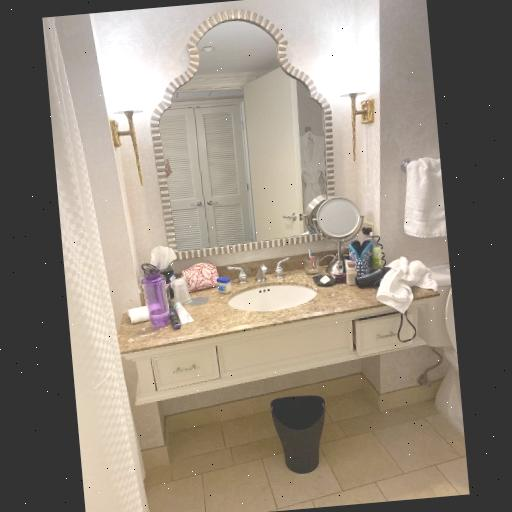clean mirror: (144, 28, 339, 244)
disorganized_towel: (378, 256, 439, 317)
messy_sink: (125, 229, 438, 412)
